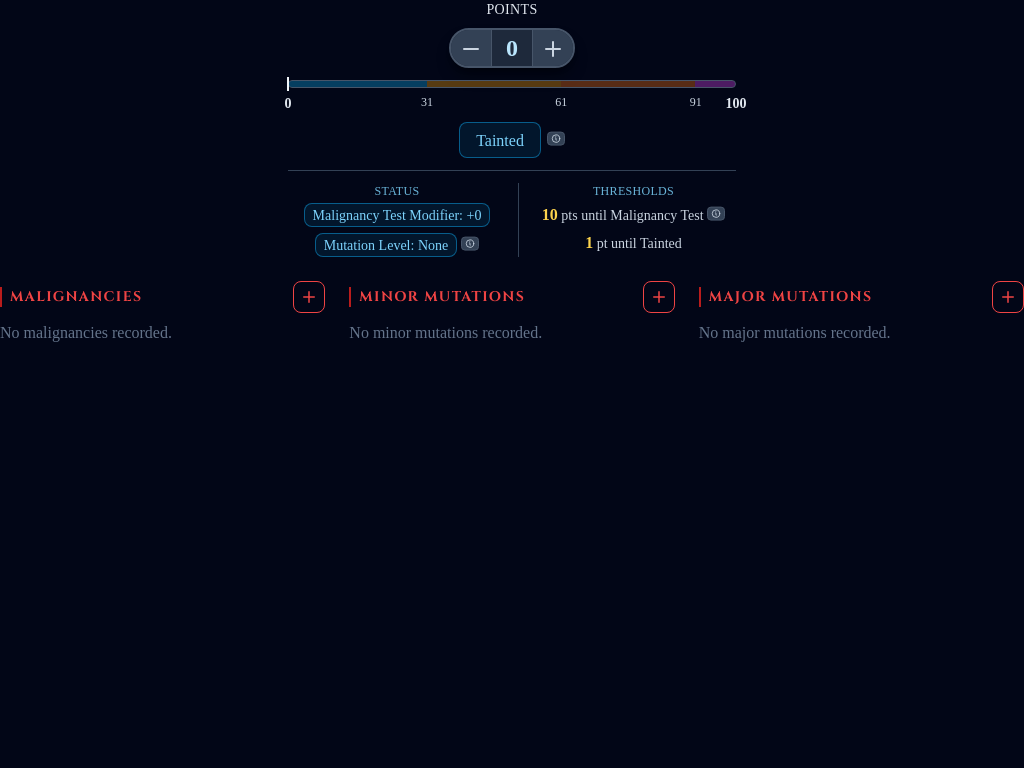
Test case: CorruptionPanel picker wiring › opens the Minor Mutation picker from the Minor Mutations Add button
This screenshot has width=1024, height=768.
Click the button named "Add Minor Mutation". click: (659, 297)
box: [643,281,675,313]
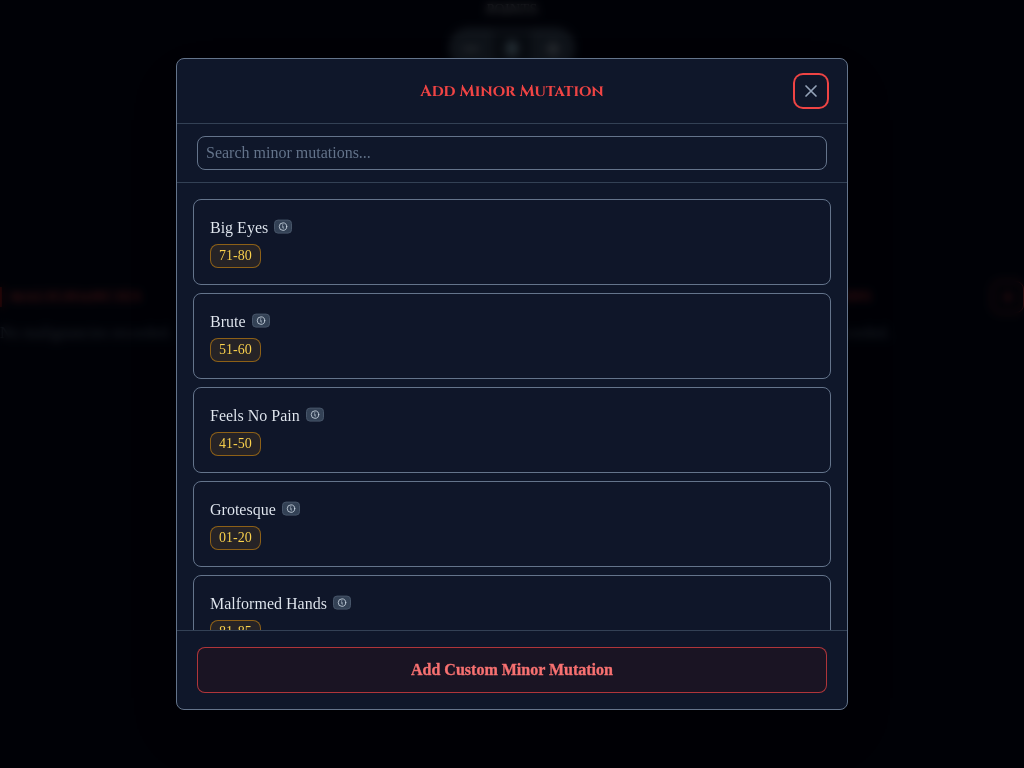
Now the dialog "Add Minor Mutation" is shown, box [176,58,848,710]
